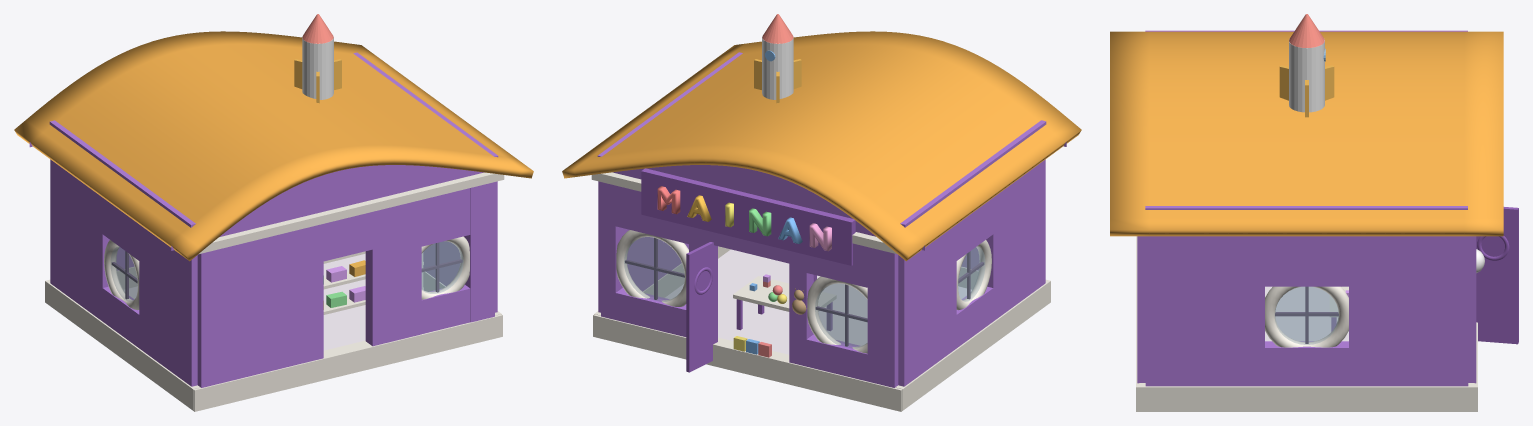
Rendered from mainan-toko-blender-v4.glb.
3 views of the same model, side by side, from view 1: azimuth 30°, elevation 25°; view 2: azimuth 150°, elevation 25°; view 3: azimuth 270°, elevation 25° (orthographic). The views are drawn at different scales.
Parts seen in each view (by area): view 1: mainan4_wall, mainan4_roof, mainan4_cream, mainan4_vc, mainan4_glass, mainan4_floor, mainan4_dark; view 2: mainan4_roof, mainan4_wall, mainan4_cream, mainan4_trim, mainan4_glass, mainan4_floor, mainan4_vc, mainan4_dark; view 3: mainan4_roof, mainan4_wall, mainan4_cream, mainan4_trim, mainan4_vc, mainan4_glass, mainan4_floor, mainan4_dark.
Part boxes in pixels (<box>): mainan4_wall: <box>29,52,498,387</box>; mainan4_roof: <box>14,31,533,261</box>; mainan4_cream: <box>45,172,504,411</box>; mainan4_vc: <box>294,14,365,309</box>; mainan4_glass: <box>111,241,463,301</box>; mainan4_floor: <box>124,253,365,350</box>; mainan4_dark: <box>111,242,462,299</box>; mainan4_roof: <box>562,31,1081,261</box>; mainan4_wall: <box>597,52,1066,387</box>; mainan4_cream: <box>591,172,1050,411</box>; mainan4_trim: <box>641,168,855,372</box>; mainan4_glass: <box>624,237,984,348</box>; mainan4_floor: <box>665,249,971,354</box>; mainan4_vc: <box>657,14,831,357</box>; mainan4_dark: <box>625,238,984,346</box>; mainan4_roof: <box>1110,31,1503,236</box>; mainan4_wall: <box>1137,30,1476,386</box>; mainan4_cream: <box>1136,236,1477,411</box>; mainan4_trim: <box>1331,207,1518,344</box>; mainan4_vc: <box>1279,14,1484,297</box>; mainan4_glass: <box>1274,286,1338,344</box>; mainan4_floor: <box>1265,286,1348,341</box>; mainan4_dark: <box>1275,286,1338,343</box>.
Bounding box in the file's own units: 7.1 × 5.75 × 6.33.
